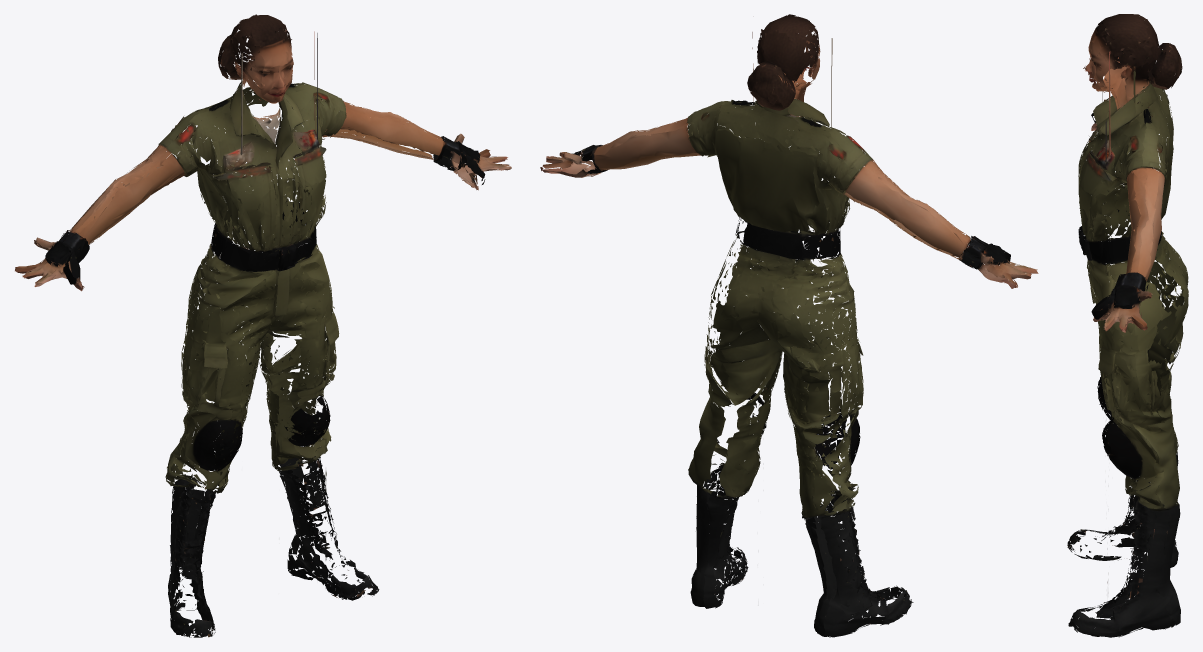
Rendered from soldier_1784581021_40129760.glb.
3 renders of one model, left to right at view 1: azimuth 30°, elevation 25°; view 2: azimuth 150°, elevation 25°; view 3: azimuth 270°, elevation 25°, orthographic.
Parts seen in each view (by area): view 1: Hero; view 2: Hero; view 3: Hero.
Part boxes in pixels (x1,y1,x2,y2): Hero: (15,14,511,637); Hero: (540,14,1038,637); Hero: (1067,14,1188,637).
Bounding box in the file's own units: 0.8702 × 0.9999 × 0.1911.
1 material, 1 textured.
